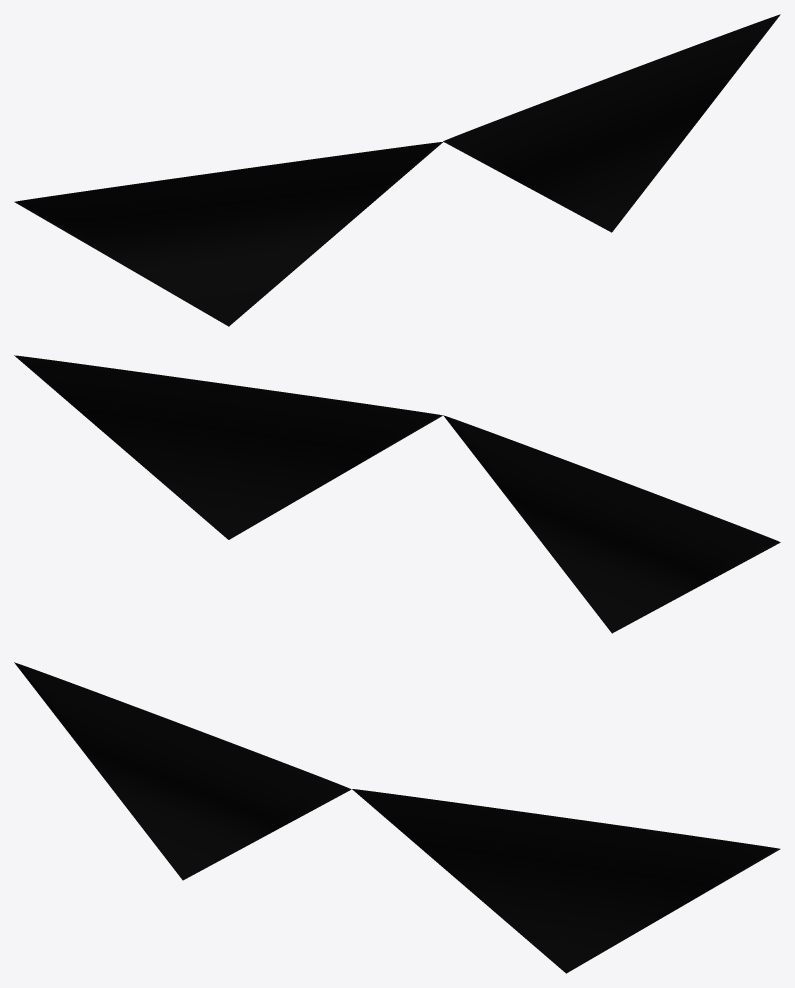
Rendered from Triangles.glb.
3 renders of one model, top to bottom at view 1: azimuth 30°, elevation 25°; view 2: azimuth 150°, elevation 25°; view 3: azimuth 330°, elevation 25°, orthographic.
Parts seen in each view (by area): view 1: Cone.002; view 2: Cone.002; view 3: Cone.002.
Part boxes in pixels (x1,y1,x2,y2): Cone.002: (14, 14, 780, 326); Cone.002: (14, 355, 780, 633); Cone.002: (14, 662, 780, 973).
Size of the model in its own units: 0.482 by 0.0931 by 0.0502.
Materials: 1 (1 with a texture image).
